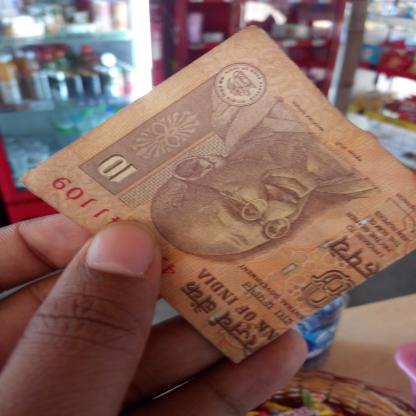Old10Front: (19, 23, 416, 367)
